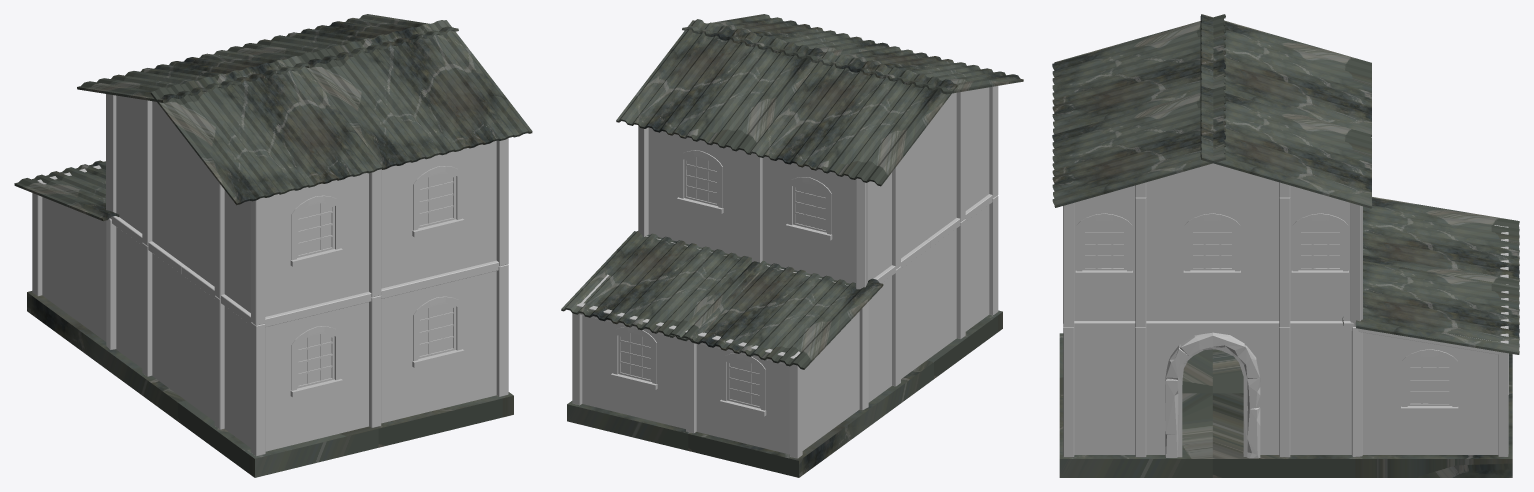
File: House2.fbx
3 views of the same model, side by side, from view 1: azimuth 30°, elevation 25°; view 2: azimuth 150°, elevation 25°; view 3: azimuth 270°, elevation 25° (orthographic). The views are drawn at different scales.
Visible parts, largest first — view 1: House2_LOD0; view 2: House2_LOD0; view 3: House2_LOD0.
Part boxes in pixels (x1,y1,x2,y2): House2_LOD0: (14, 14, 532, 477); House2_LOD0: (561, 14, 1023, 477); House2_LOD0: (1052, 14, 1519, 477).
Size of what is drawn, in the model's own units: 551 by 592 by 758.
